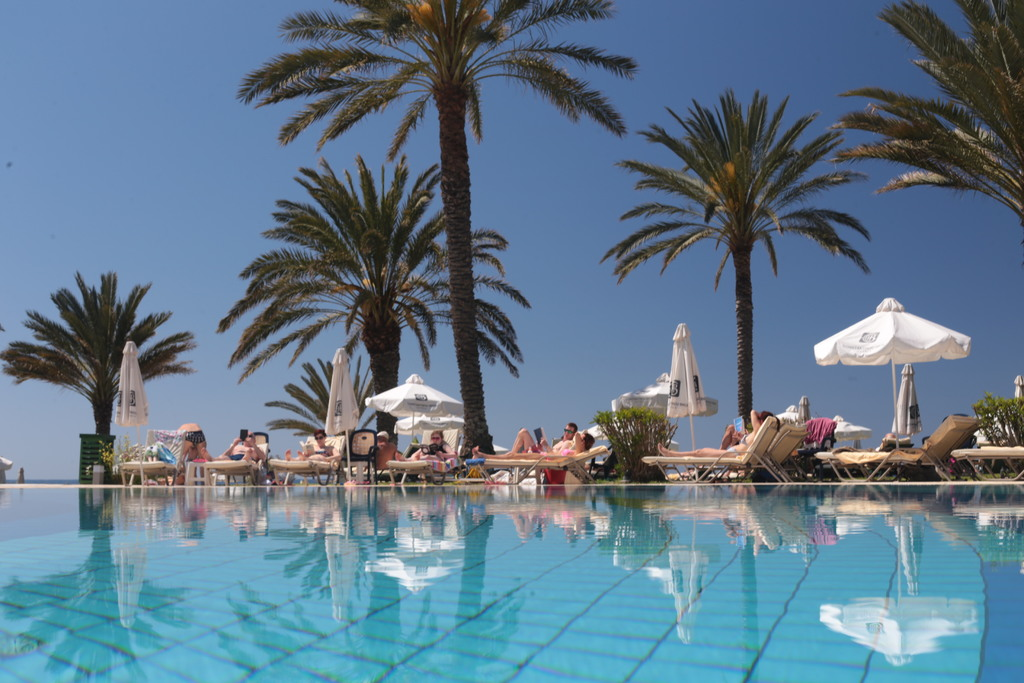Tree: (215, 155, 532, 448)
